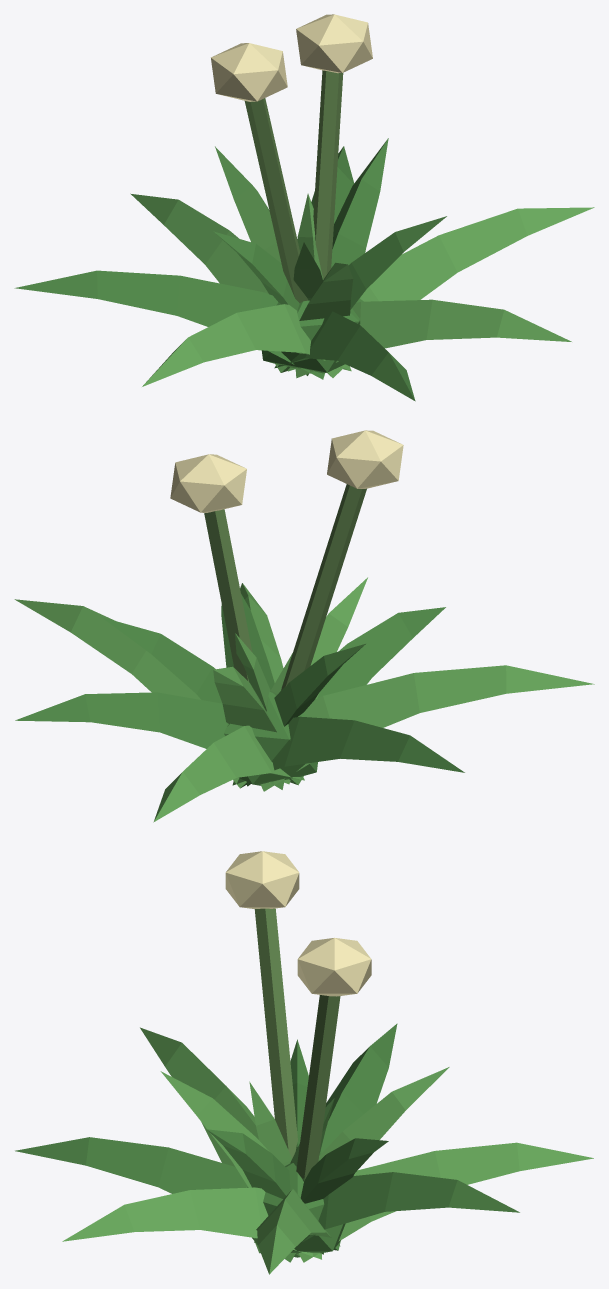
File: herb.bush.fbx
3 views of the same model, one above another, from view 1: azimuth 30°, elevation 25°; view 2: azimuth 150°, elevation 25°; view 3: azimuth 270°, elevation 25° (orthographic).
Parts seen in each view (by area): view 1: HerbBush; view 2: HerbBush; view 3: HerbBush.
Part boxes in pixels (left/top/right/bottom): HerbBush: left=14, top=14, right=594, bottom=401; HerbBush: left=14, top=430, right=594, bottom=822; HerbBush: left=15, top=851, right=593, bottom=1274.
Bounding box in the file's own units: 0.7598 × 0.511 × 0.7356.
